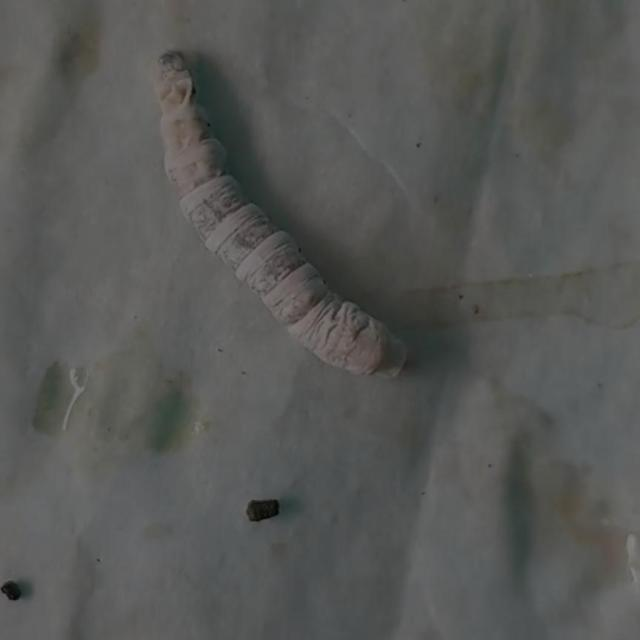Grasserie: (122, 28, 437, 385)
